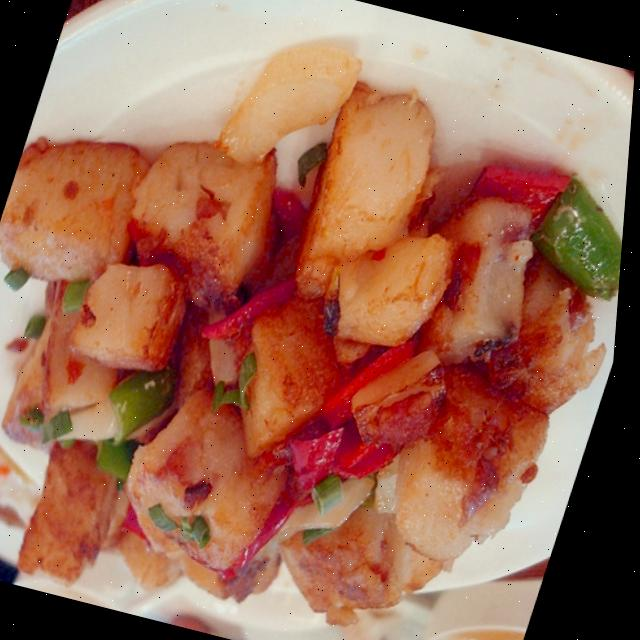蛋糕甜品: (0, 1, 634, 640)
